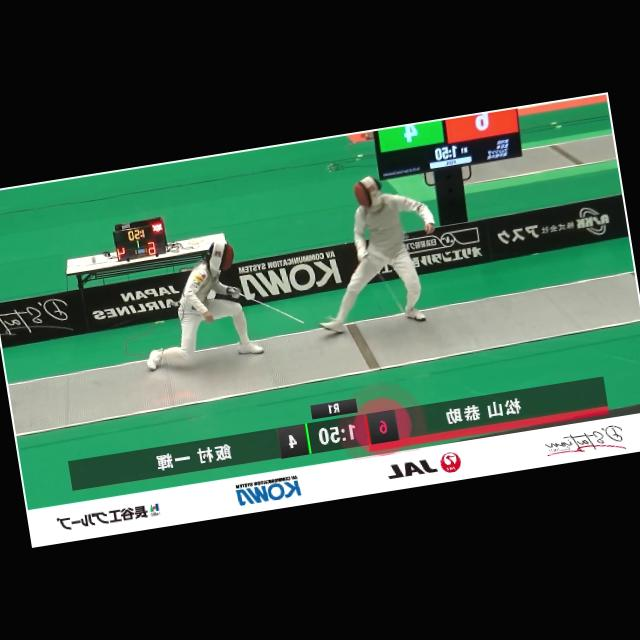blade: (224, 277, 307, 338), (358, 243, 408, 324)
